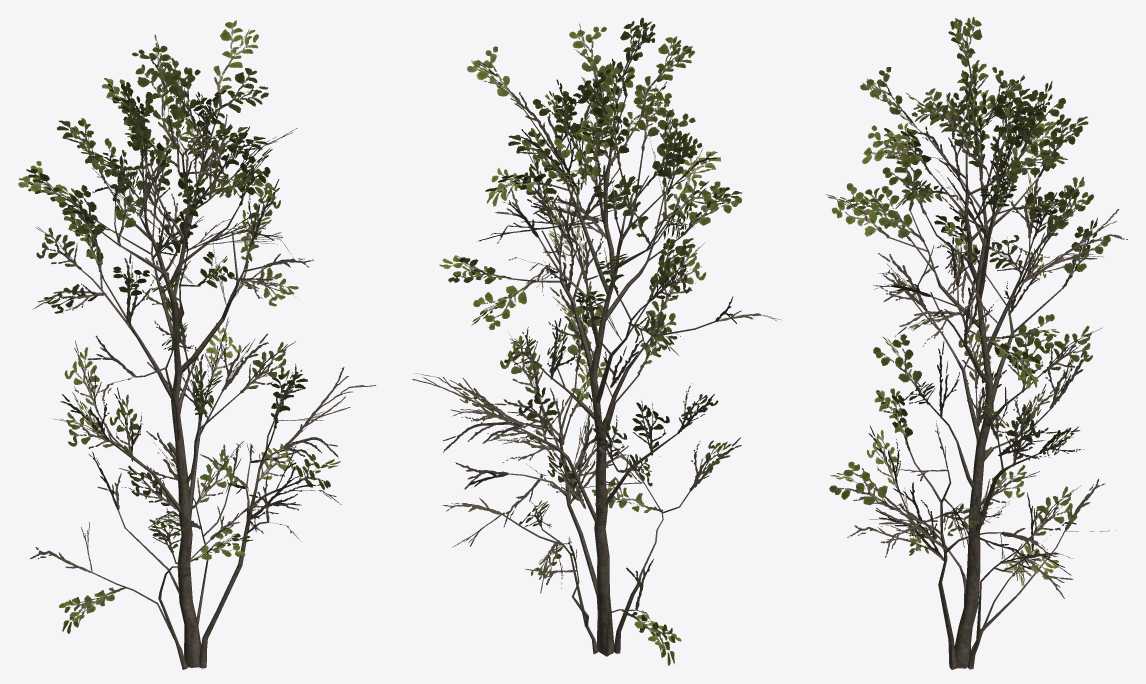
File: SM_BlackAlder_Forest_07_PP_LOD5.gltf
The picture shows the model from 3 angles, left to right: view 1: azimuth 30°, elevation 25°; view 2: azimuth 150°, elevation 25°; view 3: azimuth 270°, elevation 25°; orthographic projection.
Visible parts, largest first — view 1: SM_BlackAlder_Forest_07_PP; view 2: SM_BlackAlder_Forest_07_PP; view 3: SM_BlackAlder_Forest_07_PP.
Part boxes in pixels (x1,y1,x2,y2): SM_BlackAlder_Forest_07_PP: (18, 20, 376, 669); SM_BlackAlder_Forest_07_PP: (412, 17, 782, 665); SM_BlackAlder_Forest_07_PP: (825, 17, 1127, 669).
Bounding box in the file's own units: 4.48 × 8.26 × 3.65.
Materials: 2 (2 with a texture image).
